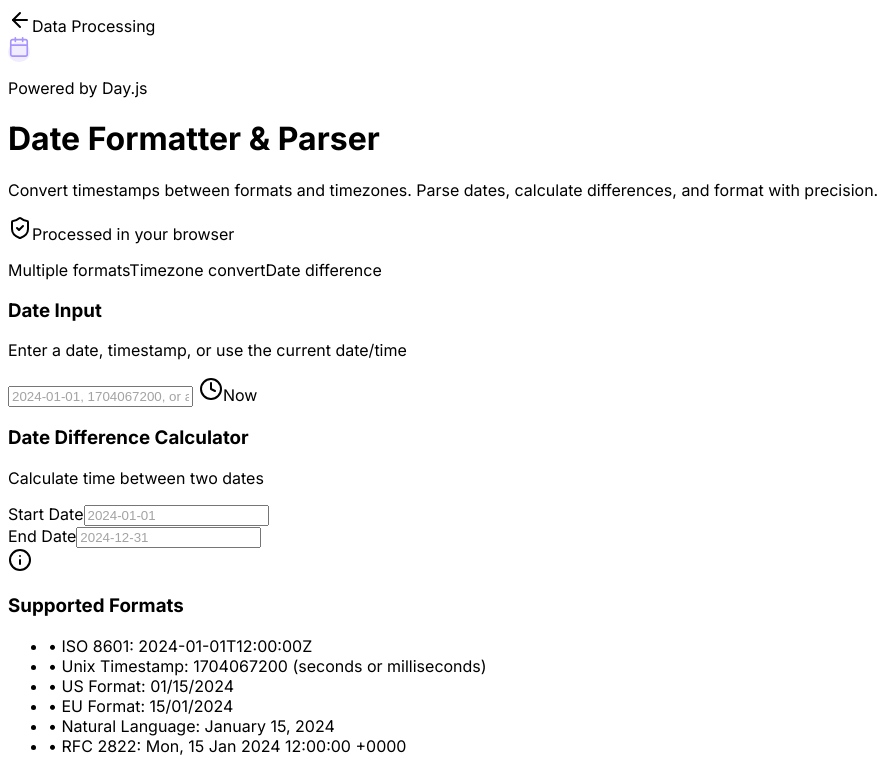
Scenario: Date Formatter Page › Now Button › sets current date when Now button is clicked
Step 1. Click the button "Now" → (228,391), box [193,376,264,406]
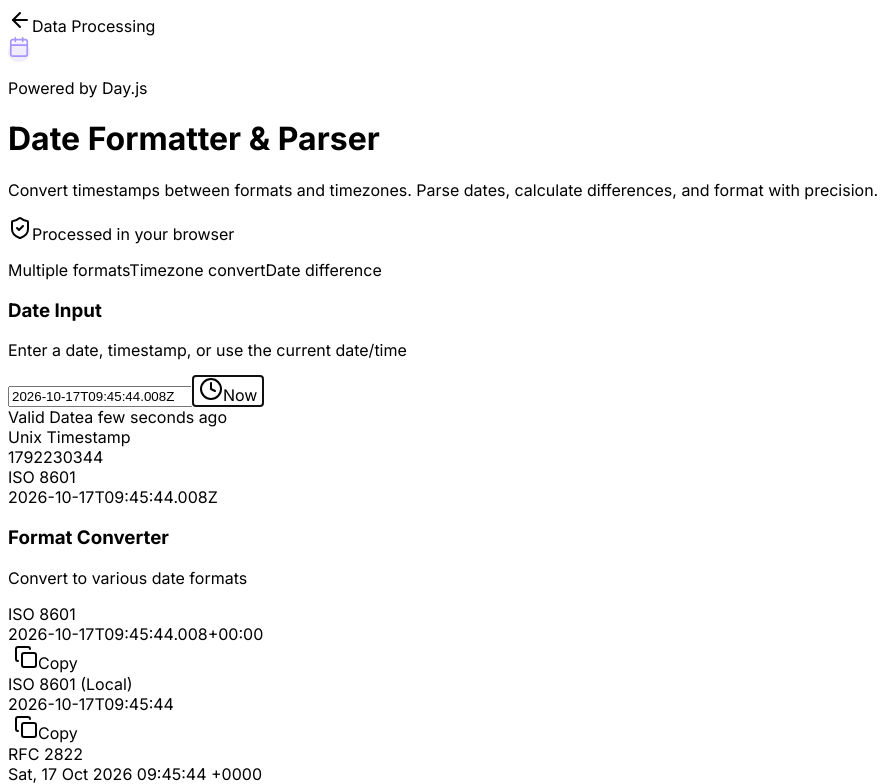
Expected: the field with placeholder "2024-01-01, 1704067200, or any date format..." is not empty, [8,386,193,407]
Expected: the text "Valid Date" is shown, [8,407,84,427]
